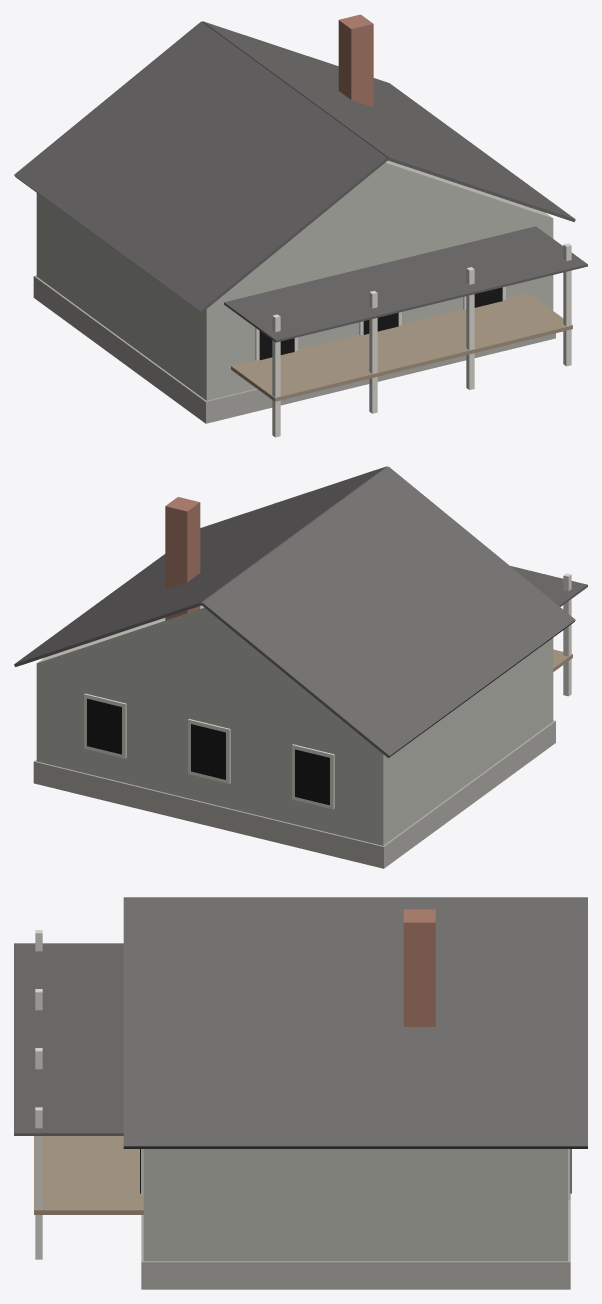
The model's file is house_b_far.glb.
3 renders of one model, top to bottom at view 1: azimuth 30°, elevation 25°; view 2: azimuth 150°, elevation 25°; view 3: azimuth 270°, elevation 25°, orthographic. The views are drawn at different scales.
Visible parts, largest first — view 1: HouseFar; view 2: HouseFar; view 3: HouseFar.
Part boxes in pixels (x1,y1,x2,y2): HouseFar: (14,14,587,437); HouseFar: (14,466,587,868); HouseFar: (14,897,587,1289).
Bounding box in the file's own units: 10.84 × 7.07 × 11.5.
